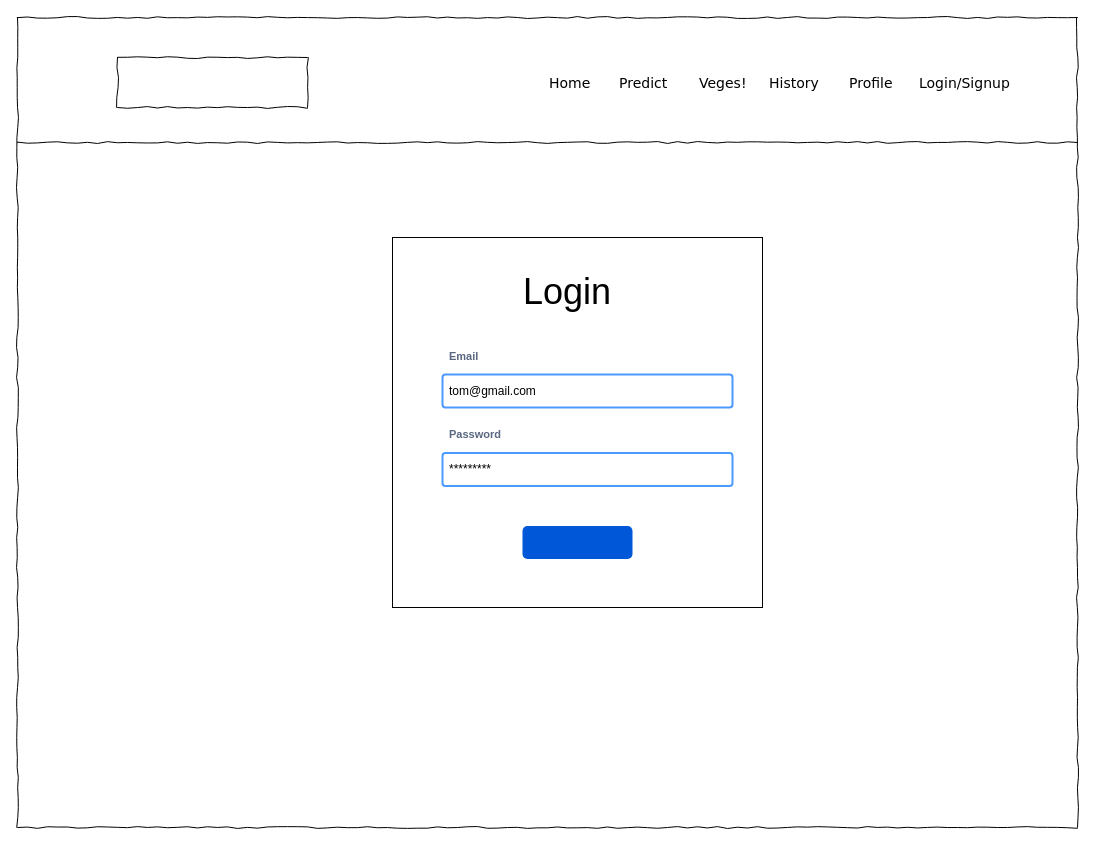
This 1095x845 diagram has some shape labels left out. The centre of each missing label's shape, as x and y in pixels:
"Lets go!" goes at point (577, 542).
"VegeFacts" goes at point (212, 82).
